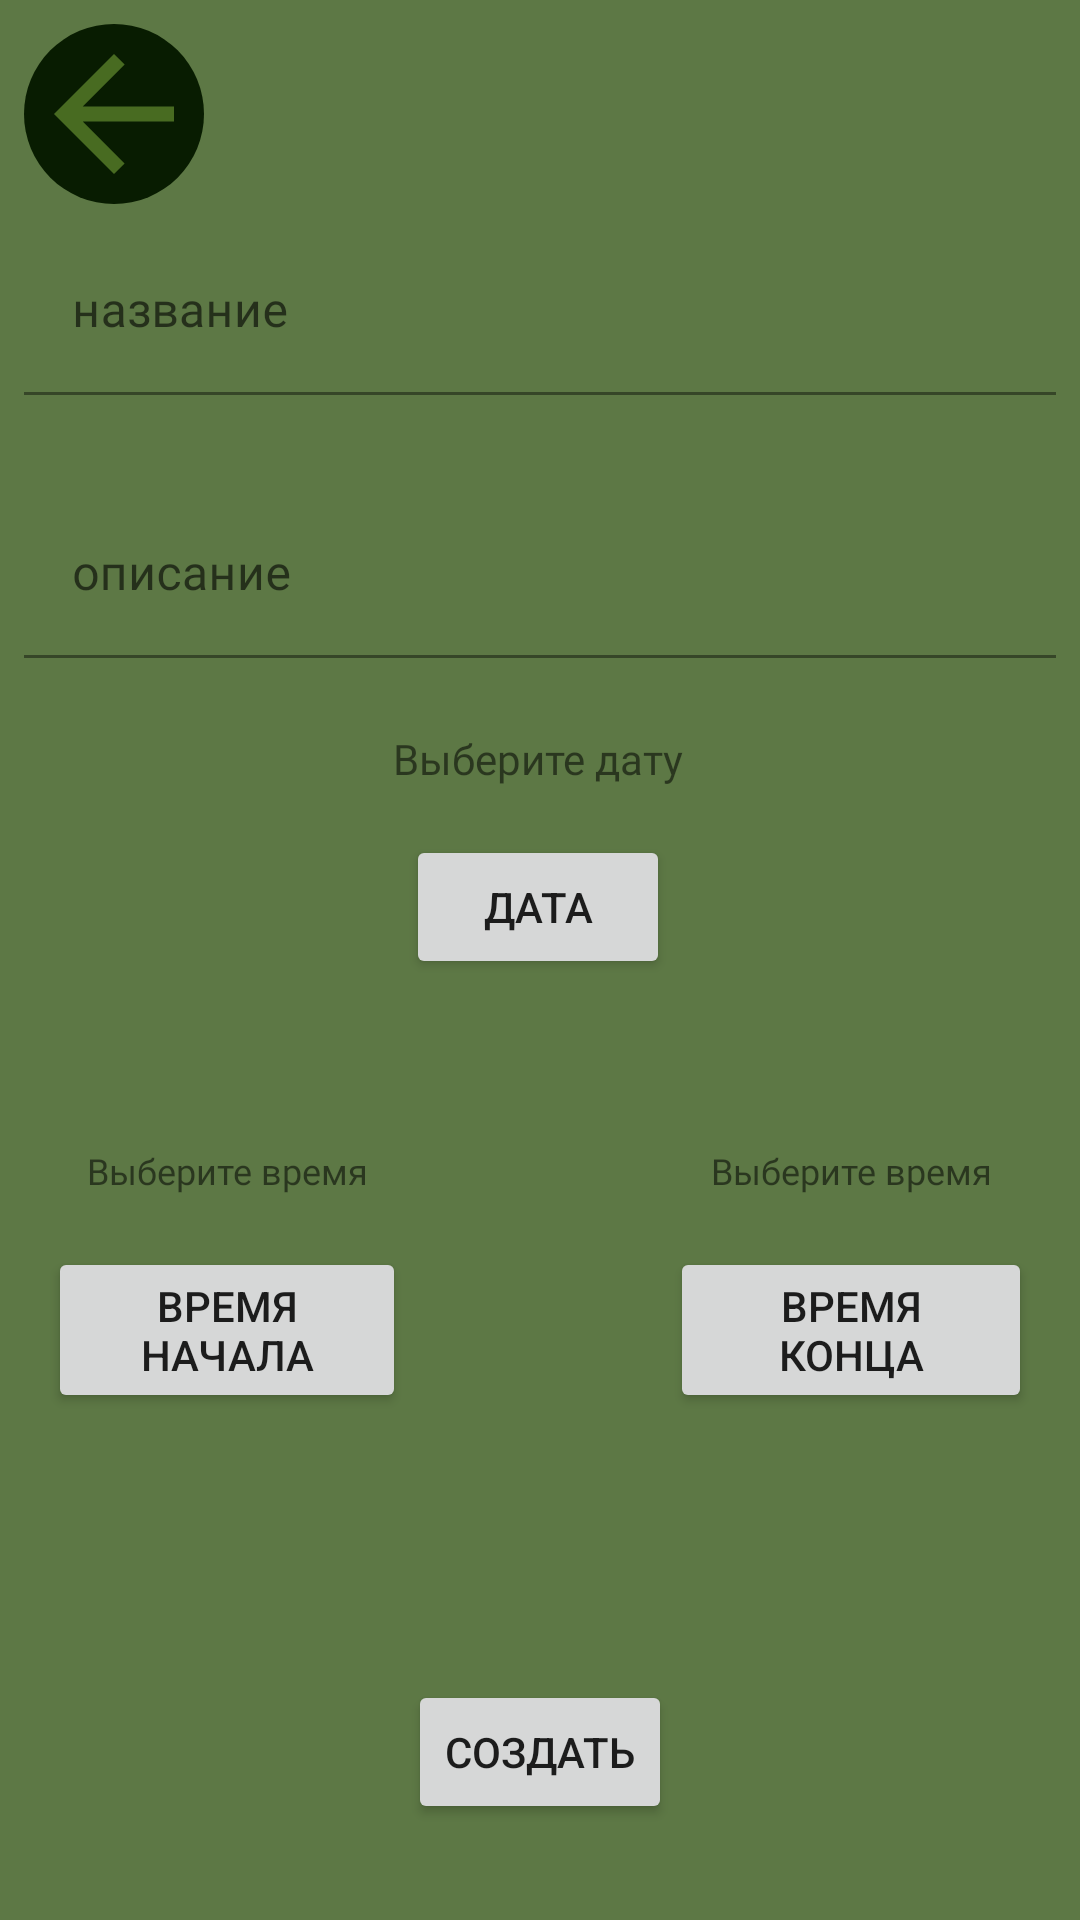

Point at icon controls on the screen. Image size 1080 x 1920, points as [x,y].
arrow back: [114,114]
